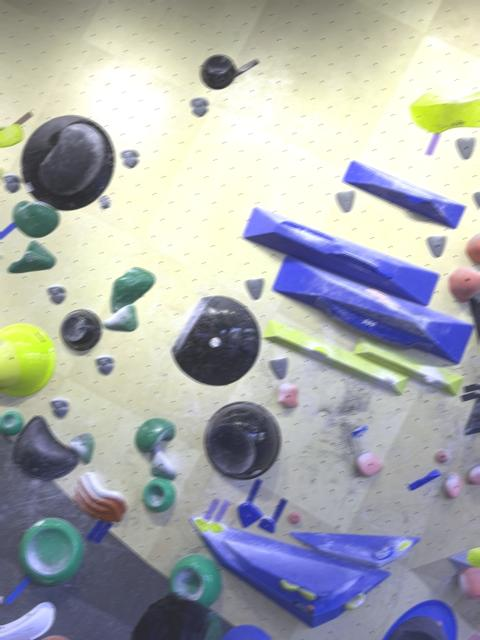crimp: (238, 502, 262, 526), (372, 547, 393, 559), (377, 298, 402, 308), (258, 518, 275, 531), (351, 424, 367, 437), (194, 518, 209, 530), (210, 521, 223, 532), (463, 384, 480, 392), (397, 541, 411, 550)
downhold: (456, 137, 474, 158), (336, 190, 354, 211), (427, 236, 446, 255), (270, 358, 288, 378), (246, 278, 264, 298), (96, 355, 114, 374), (50, 398, 69, 416), (48, 285, 66, 303), (121, 149, 138, 167), (191, 97, 208, 115), (3, 174, 20, 191), (0, 168, 2, 179), (0, 255, 2, 259)
jib: (435, 450, 449, 462), (288, 511, 300, 523)
jug: (74, 472, 126, 521), (74, 472, 126, 520), (13, 201, 59, 237), (8, 241, 55, 271), (104, 305, 138, 330), (150, 446, 176, 478), (278, 383, 298, 407)
ledge: (263, 321, 408, 394), (343, 161, 465, 228), (172, 296, 261, 384), (412, 91, 480, 131), (201, 54, 235, 87), (0, 411, 24, 434)
pocket: (466, 233, 480, 263)
sidepull: (13, 416, 78, 478), (20, 519, 82, 583), (111, 268, 155, 311)
sloper: (21, 115, 114, 209), (449, 267, 480, 301), (223, 625, 271, 639), (356, 451, 383, 475), (444, 473, 462, 497), (467, 547, 480, 567), (468, 463, 480, 483)
tape: (4, 576, 31, 604), (235, 58, 258, 77), (93, 522, 112, 543), (86, 520, 106, 539), (213, 500, 230, 522), (246, 480, 261, 503), (272, 499, 287, 522), (425, 133, 440, 155), (204, 499, 219, 519), (0, 222, 17, 239), (13, 111, 32, 124)
undercling: (135, 418, 176, 451)
volume: (190, 516, 390, 627), (271, 257, 472, 364), (243, 207, 439, 304), (357, 344, 462, 394), (291, 533, 415, 566), (450, 547, 480, 568)
